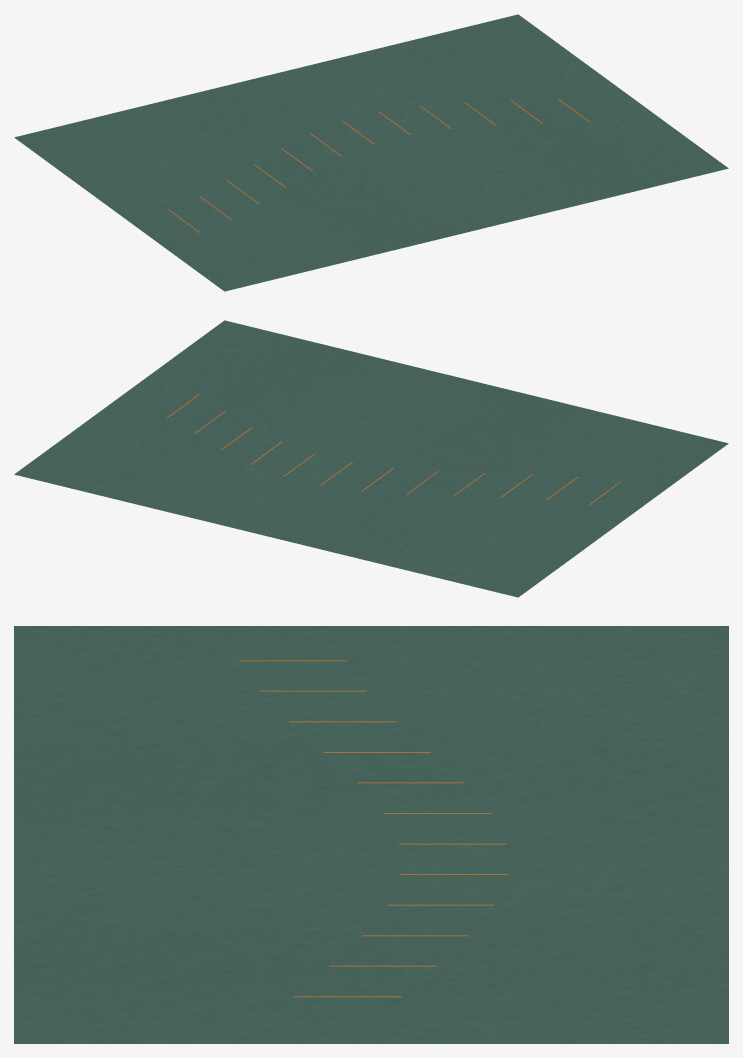
File: 297_L120_L32_LayerReference.obj
The picture shows the model from 3 angles, top to bottom: view 1: azimuth 30°, elevation 25°; view 2: azimuth 150°, elevation 25°; view 3: azimuth 270°, elevation 25°; orthographic projection. The views are drawn at different scales.
Parts seen in each view (by area): view 1: 297_L120_L32_LayerReference; view 2: 297_L120_L32_LayerReference; view 3: 297_L120_L32_LayerReference.
Part boxes in pixels (x1,y1,x2,y2): 297_L120_L32_LayerReference: [14, 14, 728, 291]; 297_L120_L32_LayerReference: [14, 320, 728, 597]; 297_L120_L32_LayerReference: [14, 626, 728, 1043].
Bounding box in the file's own units: 0.506 × 2.8e-05 × 0.366.
Materials: 2 (2 with a texture image).
